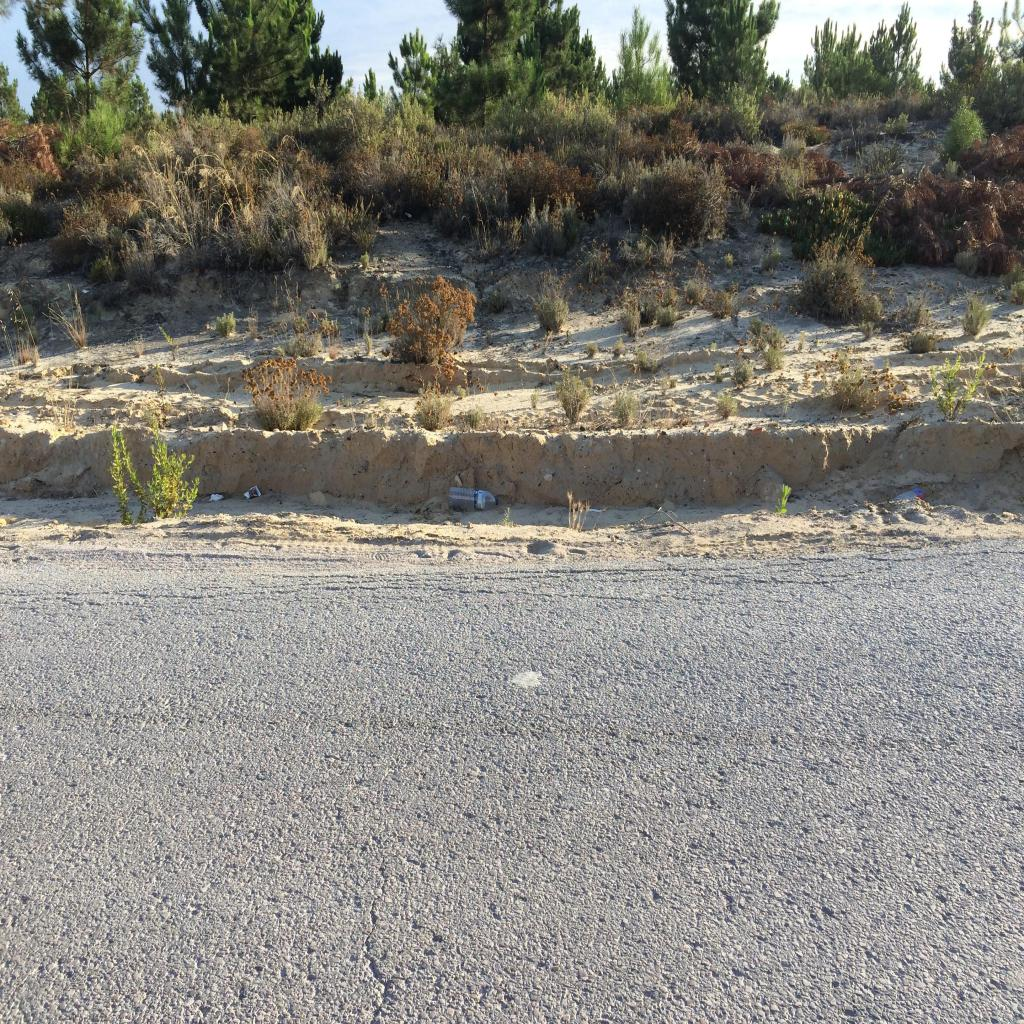Clear plastic bottle: (450, 487, 500, 510), (892, 488, 924, 500)
Other plastic: (244, 486, 262, 498)
Unlabeled litter: (210, 495, 226, 501)
